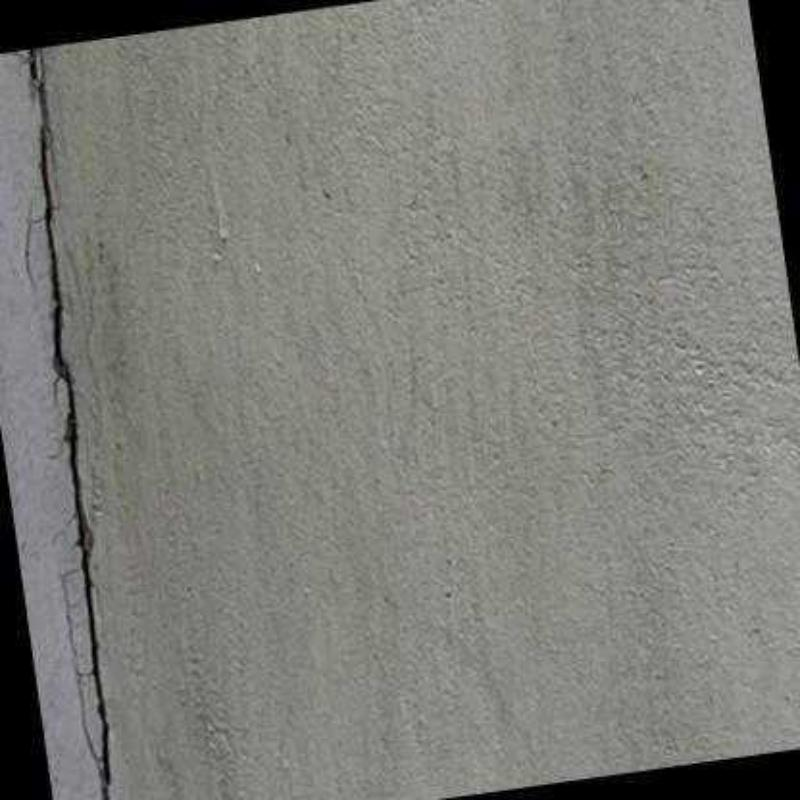crack: (28, 47, 114, 798)
